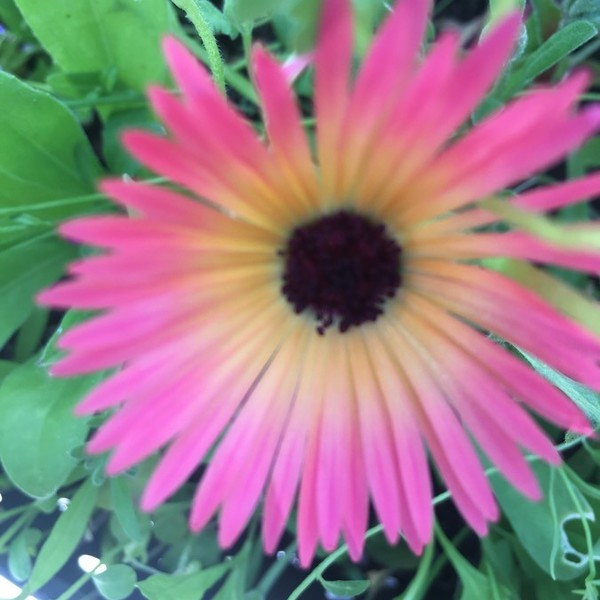obstacle: (74, 56, 575, 566)
